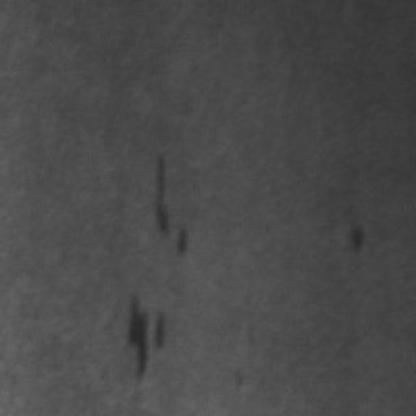inclusion: (137, 148, 189, 258), (118, 289, 168, 385), (339, 212, 370, 260)
